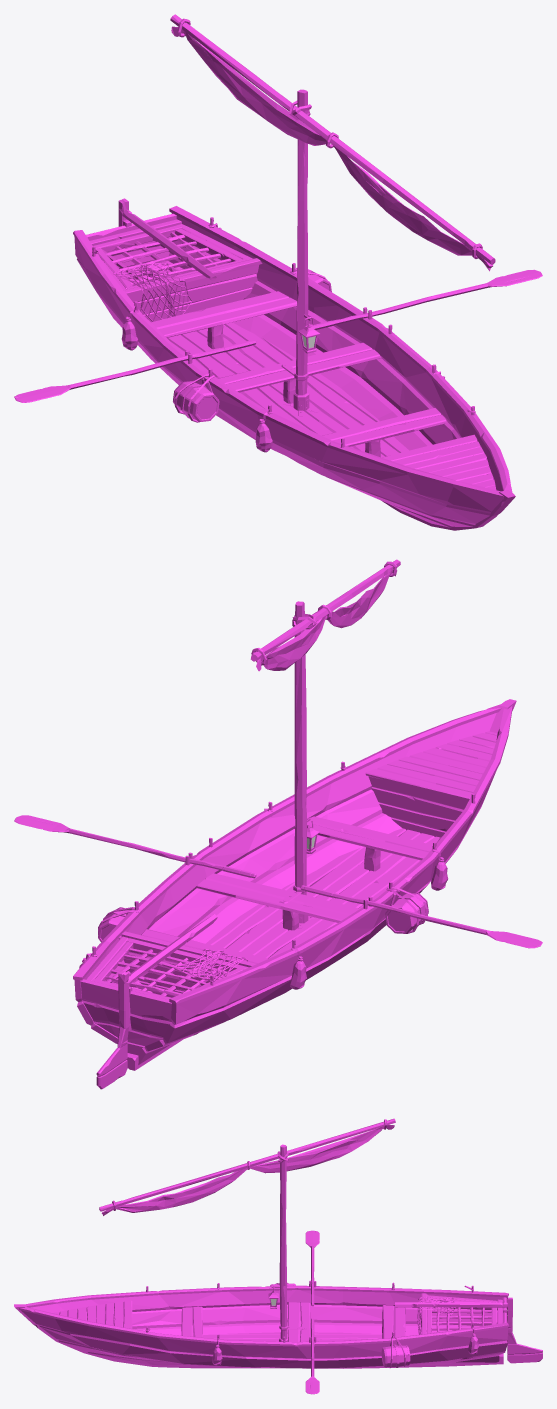
Rendered from SM_Ship_Medium_Folded_Fantasy.fbx.
3 renders of one model, top to bottom at view 1: azimuth 30°, elevation 25°; view 2: azimuth 150°, elevation 25°; view 3: azimuth 270°, elevation 25°, orthographic. The views are drawn at different scales.
Visible parts, largest first — view 1: SM_Ship_Medium_Folded_Fantasy_Base, SM_Ship_Medium_Folded_Fantasy_Cage, SM_Ship_Medium_Folded_Fantasy_Paddle_R, SM_Ship_Medium_Folded_Fantasy_Paddle_L, SM_Ship_Medium_Folded_Fantasy_Rudder; view 2: SM_Ship_Medium_Folded_Fantasy_Base, SM_Ship_Medium_Folded_Fantasy_Cage, SM_Ship_Medium_Folded_Fantasy_Rudder, SM_Ship_Medium_Folded_Fantasy_Paddle_L, SM_Ship_Medium_Folded_Fantasy_Paddle_R; view 3: SM_Ship_Medium_Folded_Fantasy_Base, SM_Ship_Medium_Folded_Fantasy_Rudder, SM_Ship_Medium_Folded_Fantasy_Cage, SM_Ship_Medium_Folded_Fantasy_Paddle_R, SM_Ship_Medium_Folded_Fantasy_Paddle_L.
Part boxes in pixels (x1,y1,x2,y2): SM_Ship_Medium_Folded_Fantasy_Base: [73, 14, 515, 530]; SM_Ship_Medium_Folded_Fantasy_Cage: [93, 225, 246, 289]; SM_Ship_Medium_Folded_Fantasy_Paddle_R: [14, 339, 256, 402]; SM_Ship_Medium_Folded_Fantasy_Paddle_L: [311, 269, 542, 329]; SM_Ship_Medium_Folded_Fantasy_Rudder: [118, 198, 216, 280]; SM_Ship_Medium_Folded_Fantasy_Base: [73, 559, 516, 1070]; SM_Ship_Medium_Folded_Fantasy_Cage: [92, 938, 248, 999]; SM_Ship_Medium_Folded_Fantasy_Rudder: [96, 914, 217, 1089]; SM_Ship_Medium_Folded_Fantasy_Paddle_L: [14, 815, 256, 878]; SM_Ship_Medium_Folded_Fantasy_Paddle_R: [300, 885, 542, 948]; SM_Ship_Medium_Folded_Fantasy_Base: [14, 1118, 508, 1368]; SM_Ship_Medium_Folded_Fantasy_Rudder: [395, 1297, 542, 1363]; SM_Ship_Medium_Folded_Fantasy_Cage: [427, 1296, 496, 1333]; SM_Ship_Medium_Folded_Fantasy_Paddle_R: [305, 1230, 319, 1306]; SM_Ship_Medium_Folded_Fantasy_Paddle_L: [305, 1318, 319, 1394].
Bounding box in the file's own units: 9.13 × 6.15 × 12.48.
